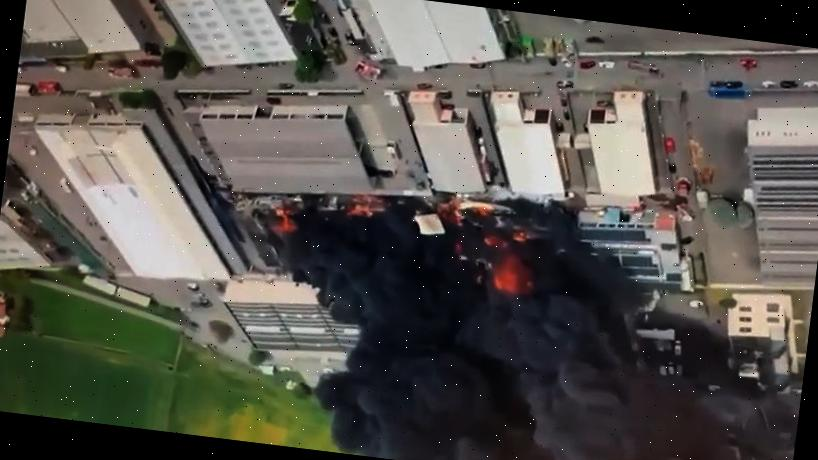fire: (278, 296, 805, 460), (422, 193, 550, 315), (323, 183, 418, 297), (251, 180, 322, 248)
smoke: (556, 230, 659, 338)
